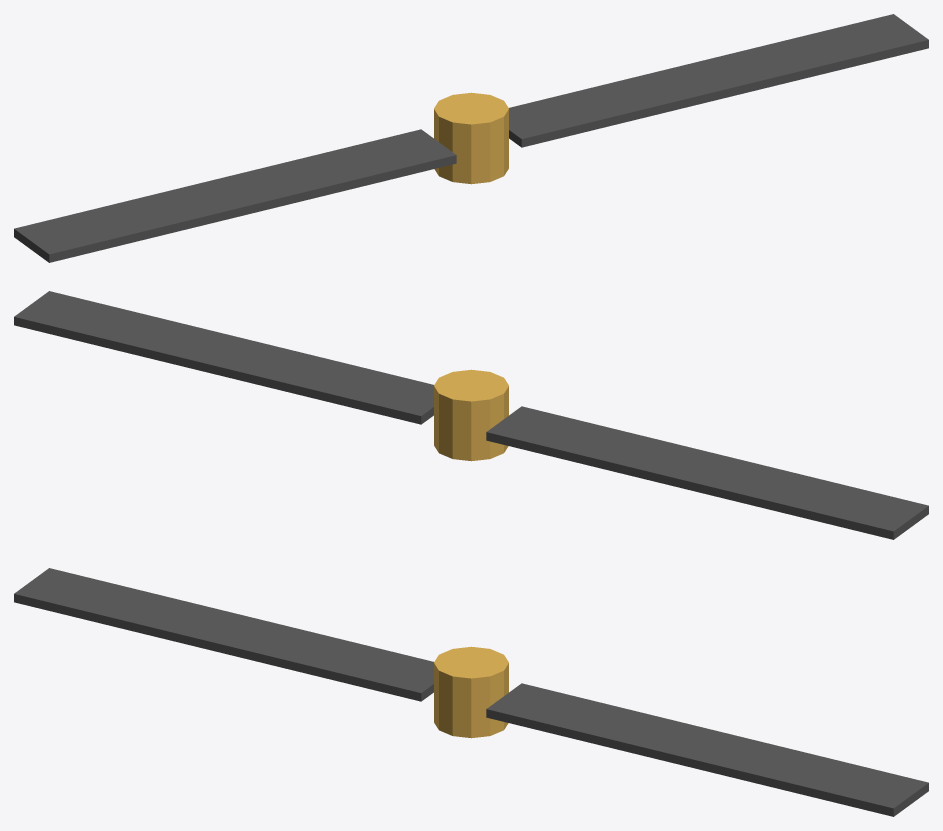
File: rotor.glb
The picture shows the model from 3 angles, top to bottom: view 1: azimuth 30°, elevation 25°; view 2: azimuth 150°, elevation 25°; view 3: azimuth 330°, elevation 25°; orthographic projection.
Visible parts, largest first — view 1: Rotor; view 2: Rotor; view 3: Rotor.
Boxes of the visible parts, box(x1,y1,x2,y2) form: Rotor: box(14, 14, 928, 262); Rotor: box(14, 291, 928, 539); Rotor: box(14, 568, 928, 816).
Size of the model in its own units: 1.08 by 0.07 by 0.08.
